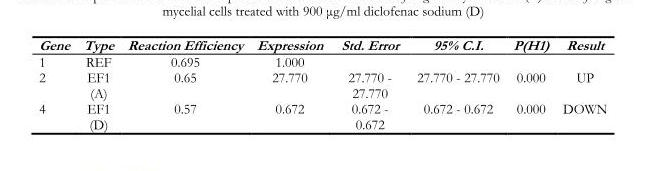table: (36, 37, 607, 131)
table column: (121, 37, 250, 131), (409, 37, 504, 131), (250, 37, 332, 131), (332, 37, 409, 131), (504, 37, 557, 131), (557, 37, 607, 131), (77, 37, 121, 131), (36, 37, 77, 131)
table column header: (36, 37, 607, 53)
table row: (36, 69, 607, 100), (36, 100, 607, 131), (36, 37, 607, 53), (36, 53, 607, 69)
